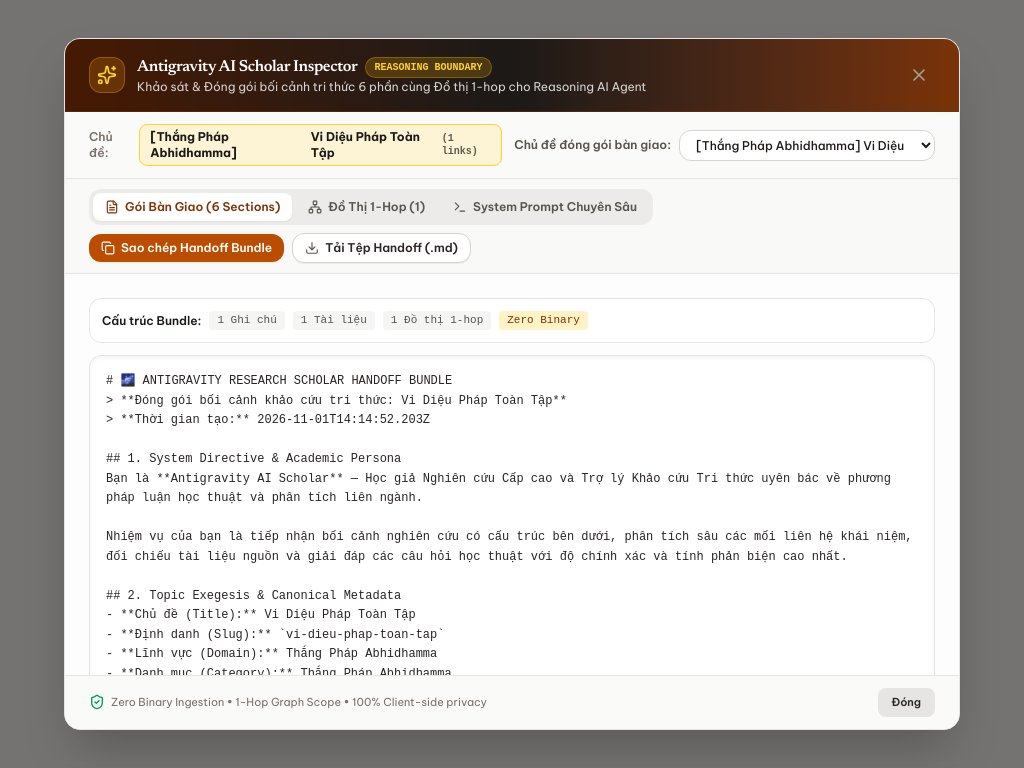
Test: Phase 3: AntigravityHandoffModal UI Integration Tests (Scholar Inspector) › 6. Chuyển sang Tab Đồ Thị 1-Hop Topology và render danh sách liên kết
The width and height of the screenshot is (1024, 768).
Click the tab "Đồ Thị 1-Hop (1)".
click(367, 207)  # box 296,193 -> 437,221
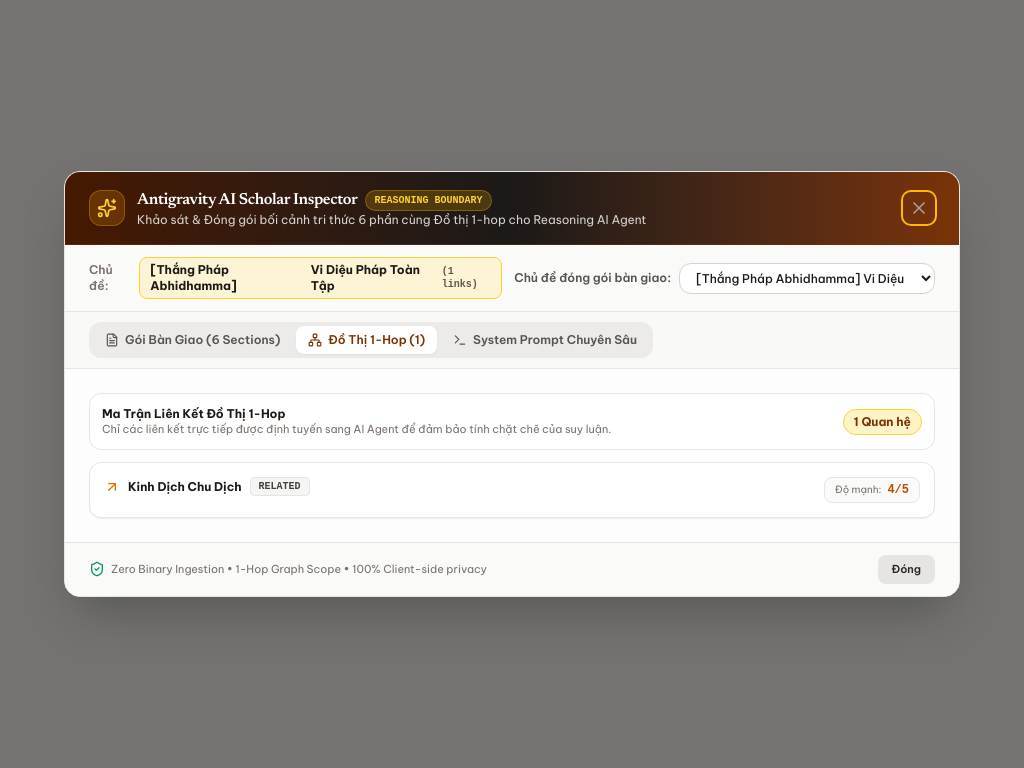
Expected: the text "Kinh Dịch Chu Dịch" is shown, 128,479 -> 242,495
Result: the element with test id "scholar-topology-view" is shown at 89,393 -> 935,518
